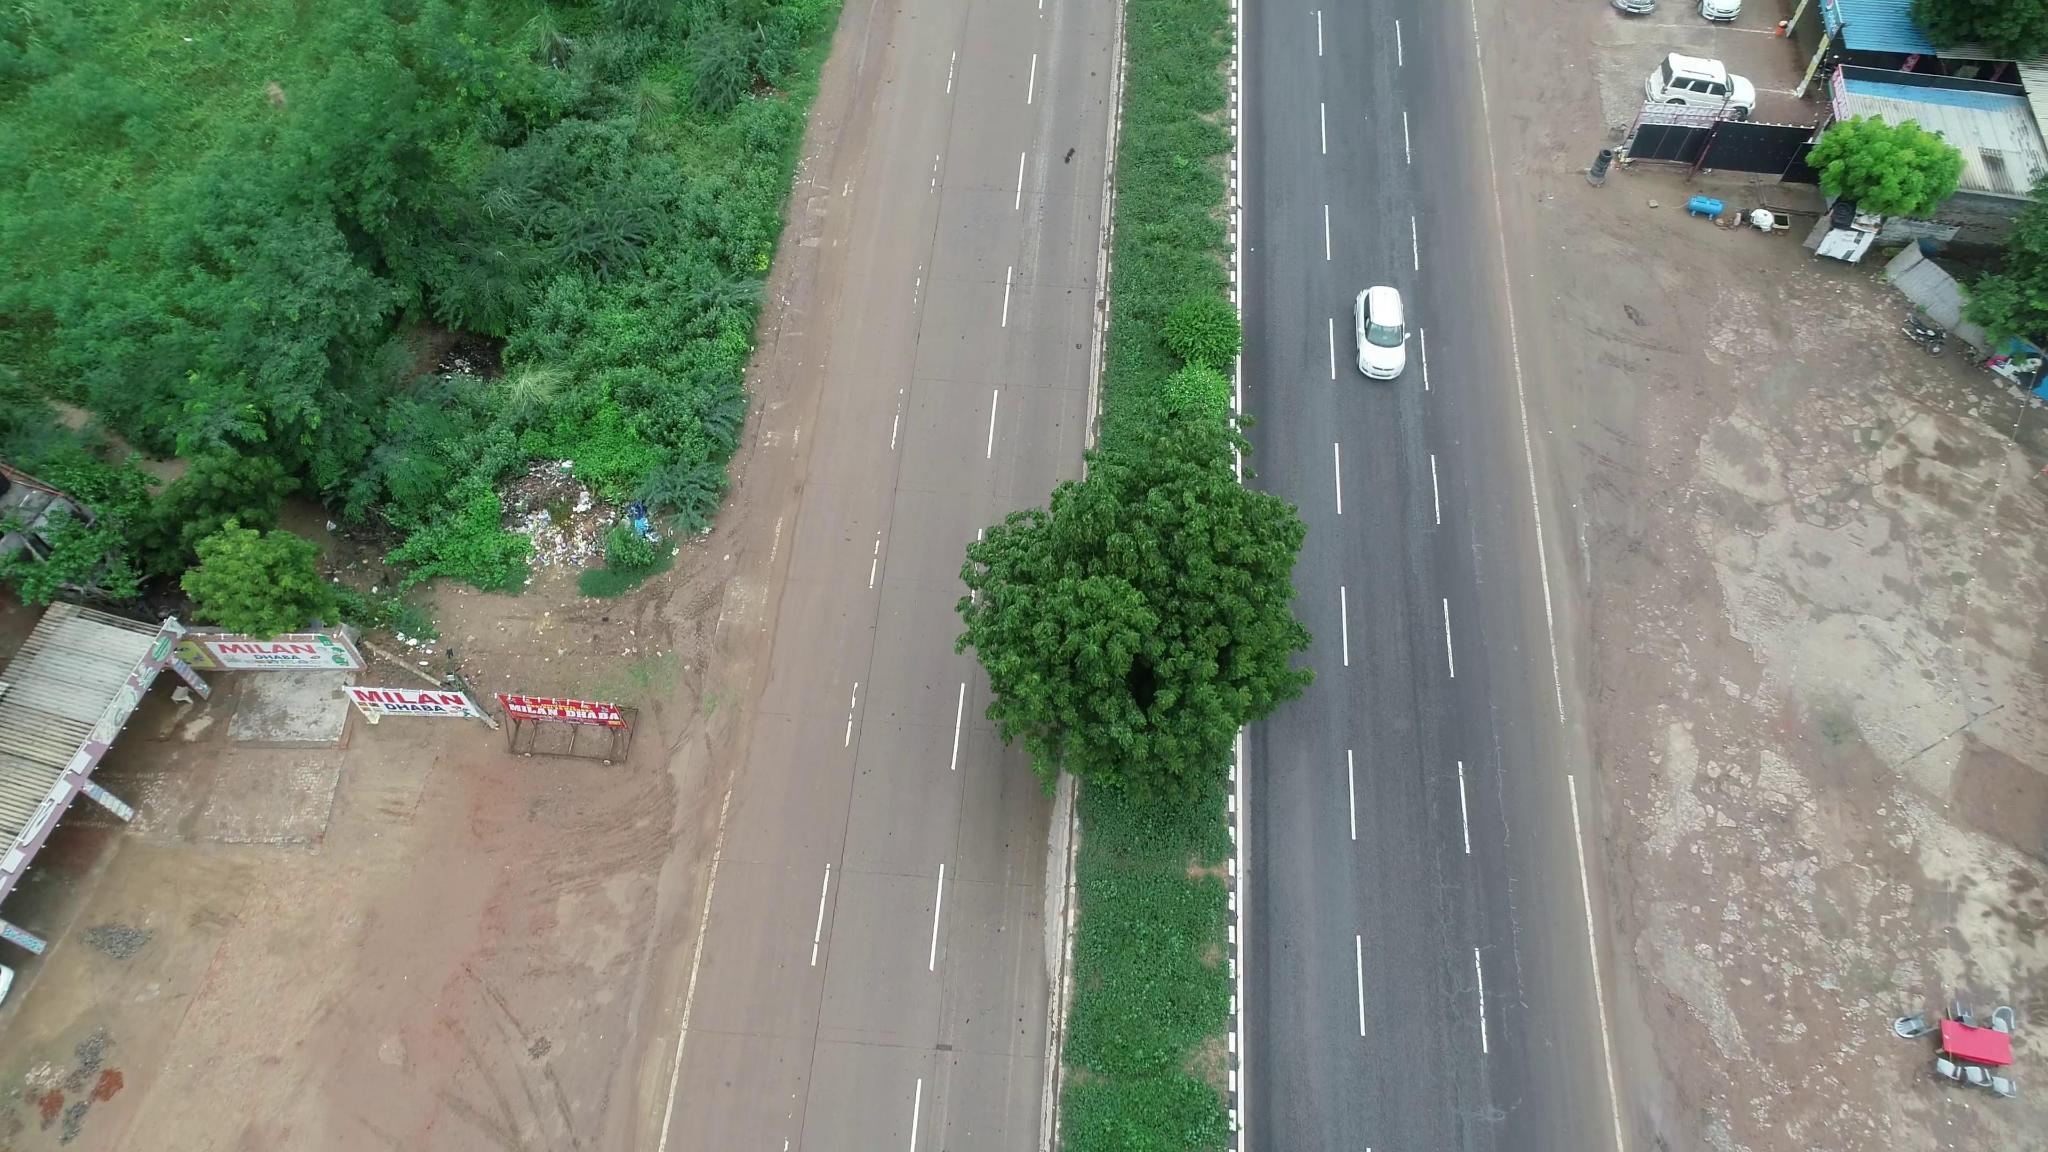Cracks: (1480, 679, 1525, 848)
